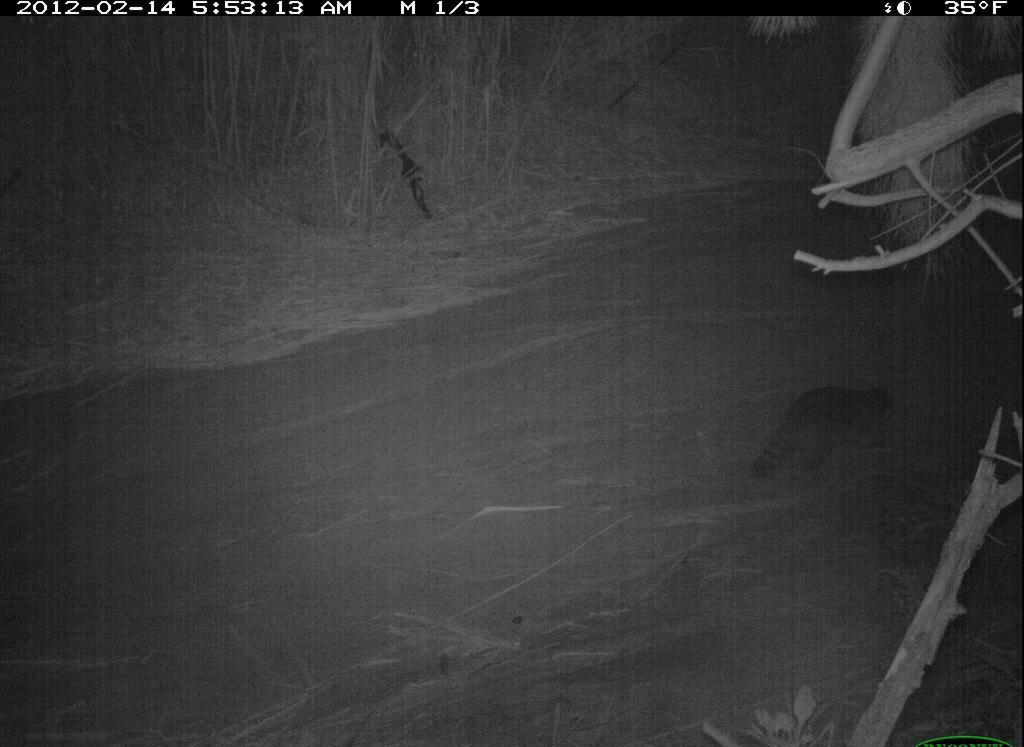raccoon: (745, 379, 912, 502)
